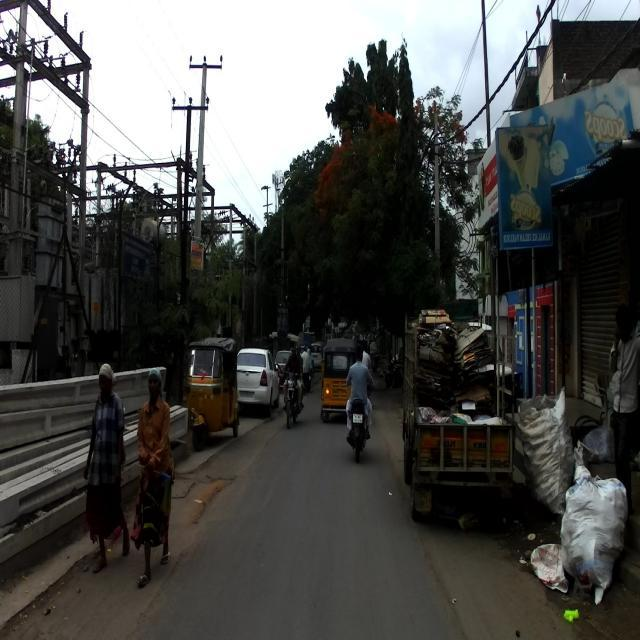pothole: (171, 472, 232, 530)
